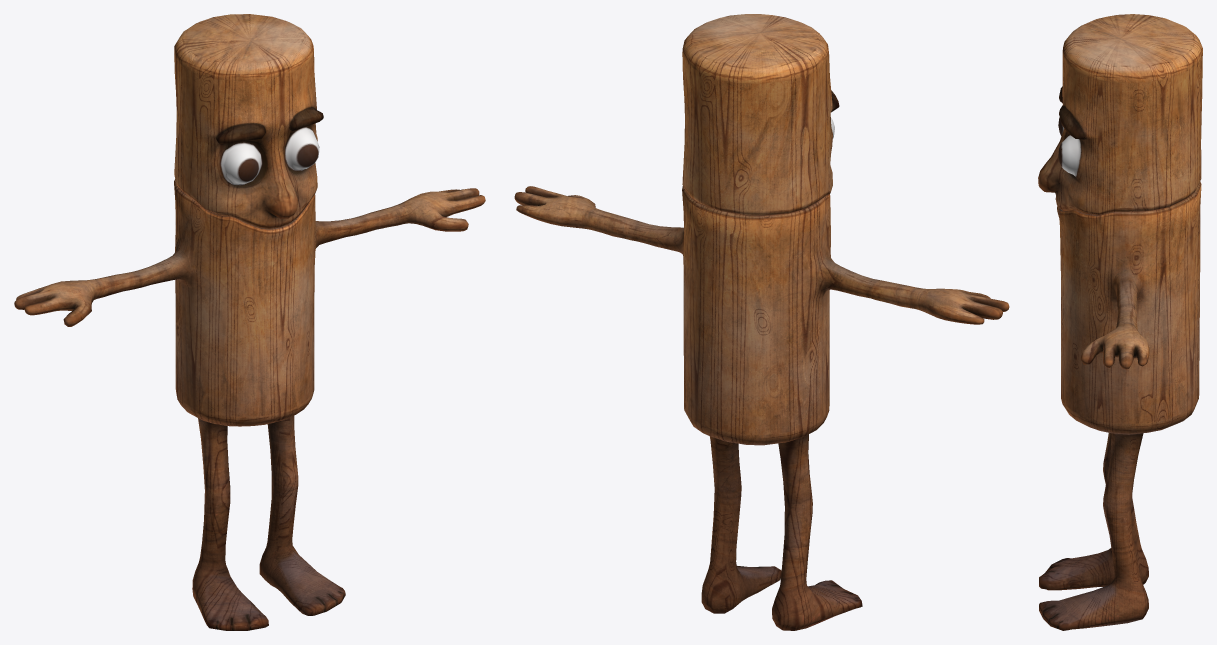
3 views of the same model, side by side, from view 1: azimuth 30°, elevation 25°; view 2: azimuth 150°, elevation 25°; view 3: azimuth 270°, elevation 25° (orthographic). The views are drawn at different scales.
Visible parts, largest first — view 1: Sahur_Body, Sahur_Head; view 2: Sahur_Body, Sahur_Head; view 3: Sahur_Body, Sahur_Head.
Boxes of the visible parts, x1,y1,x2,y2 form: Sahur_Body: [14, 179, 485, 630]; Sahur_Head: [174, 14, 323, 228]; Sahur_Body: [514, 186, 1009, 630]; Sahur_Head: [682, 14, 839, 215]; Sahur_Body: [1039, 181, 1201, 630]; Sahur_Head: [1038, 14, 1202, 215].
Size of the model in its own units: 1.75 by 2 by 0.528.
1 material, 1 textured.
